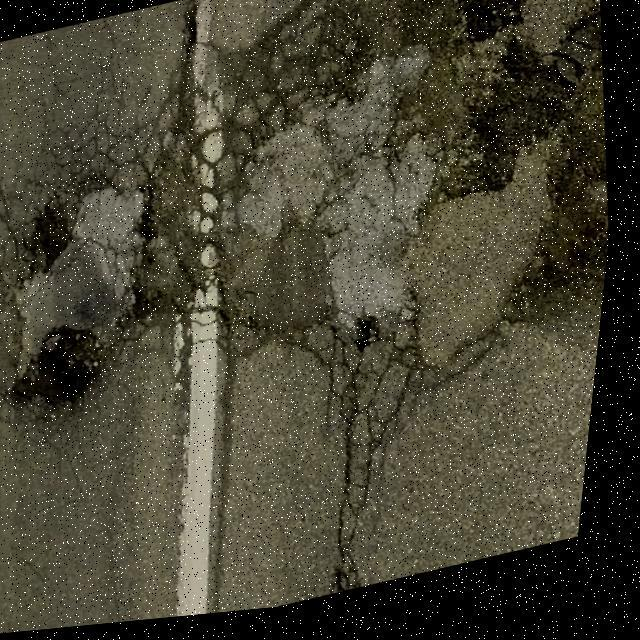pothole: (425, 33, 624, 219), (0, 315, 130, 428), (386, 0, 558, 69), (0, 188, 108, 290), (528, 214, 618, 310), (346, 318, 404, 371)
